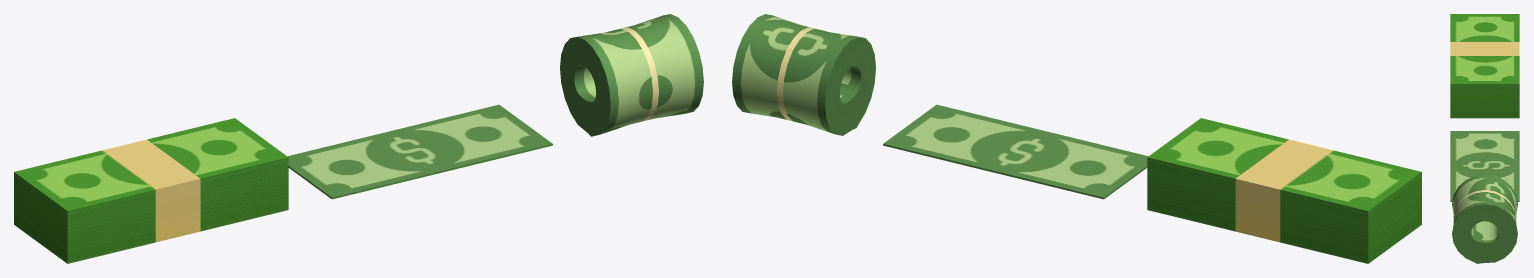
Rendered from MoneyPack.fbx.
3 views of the same model, side by side, from view 1: azimuth 30°, elevation 25°; view 2: azimuth 150°, elevation 25°; view 3: azimuth 270°, elevation 25° (orthographic). The views are drawn at different scales.
Visible parts, largest first — view 1: PileOfCash, RollCash, Cash; view 2: PileOfCash, RollCash, Cash; view 3: PileOfCash, RollCash, Cash.
Boxes of the visible parts, box(x1,y1,x2,y2) form: PileOfCash: box(14, 118, 288, 263); RollCash: box(560, 14, 703, 136); Cash: box(287, 104, 552, 199); PileOfCash: box(1147, 118, 1421, 263); RollCash: box(732, 14, 875, 135); Cash: box(883, 104, 1148, 199); PileOfCash: box(1450, 14, 1519, 118); RollCash: box(1452, 174, 1517, 263); Cash: box(1450, 131, 1519, 201).
Bounding box in the file's own units: 531 × 73.4 × 77.29.
